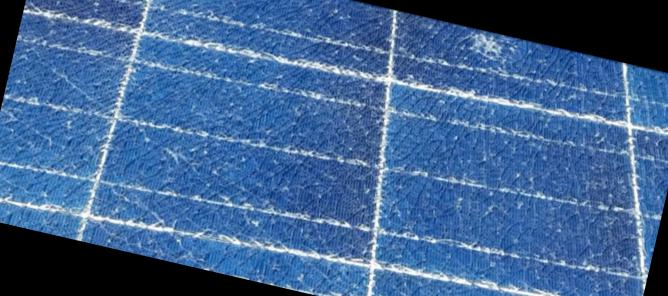Crack: (96, 31, 380, 292), (348, 81, 661, 295), (452, 26, 530, 78)
